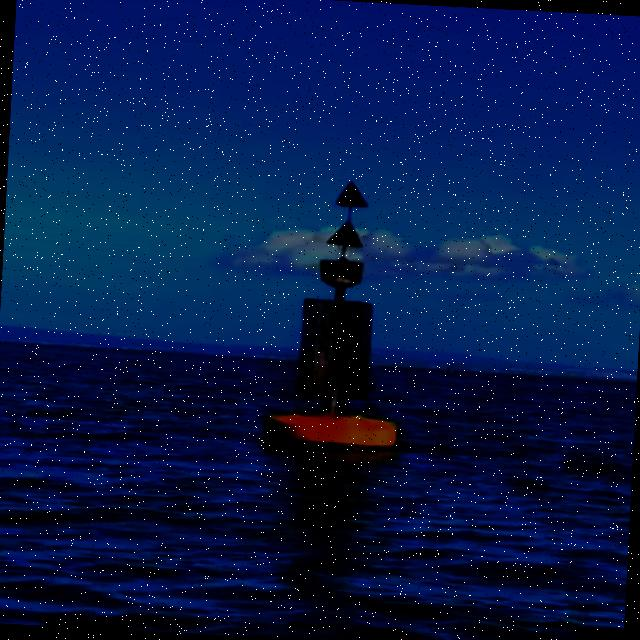marque: (261, 177, 415, 464)
